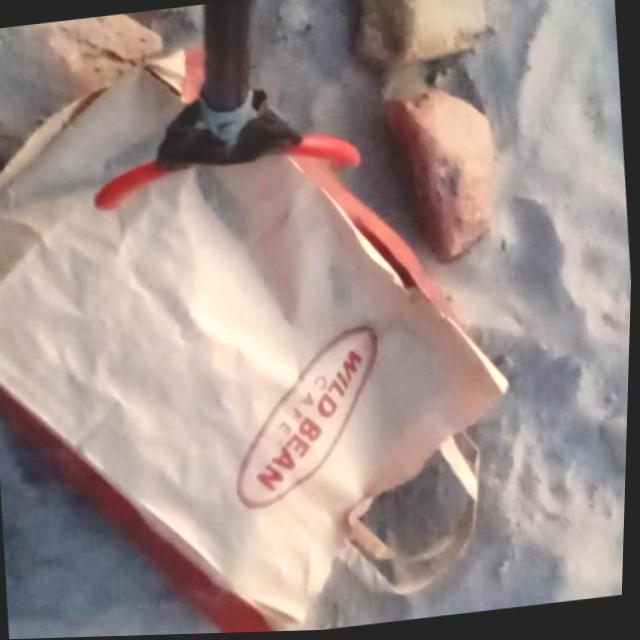Paper: (0, 12, 542, 640)
